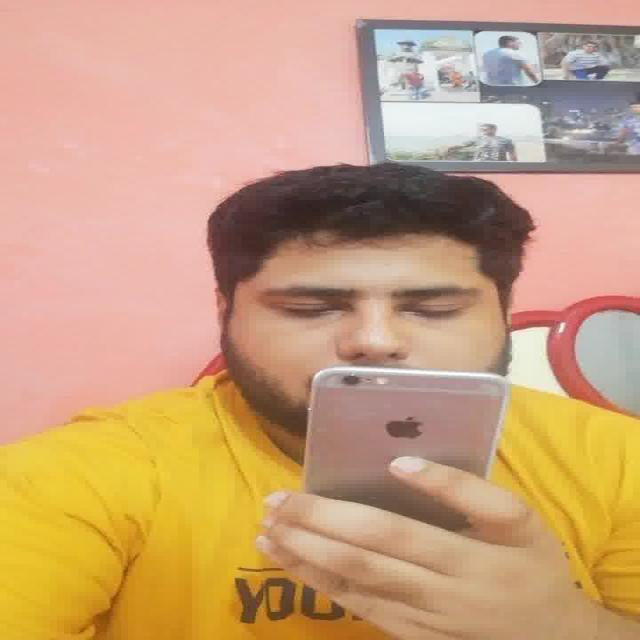Phone: (300, 367, 514, 491)
